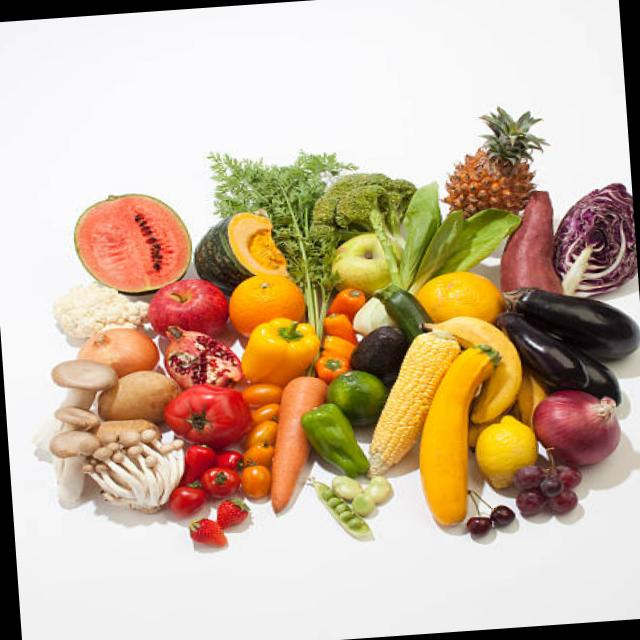paper: (488, 301, 635, 399), (364, 173, 500, 278), (53, 183, 196, 279), (503, 264, 640, 362), (443, 98, 553, 206), (556, 160, 639, 298), (538, 369, 640, 475), (34, 350, 94, 516), (306, 163, 424, 245), (188, 195, 292, 288), (286, 400, 398, 484), (70, 426, 175, 511), (156, 366, 261, 446), (464, 405, 557, 494), (235, 316, 334, 381), (237, 264, 314, 341), (141, 268, 231, 328), (422, 262, 497, 322), (330, 361, 388, 421), (315, 288, 370, 328)
